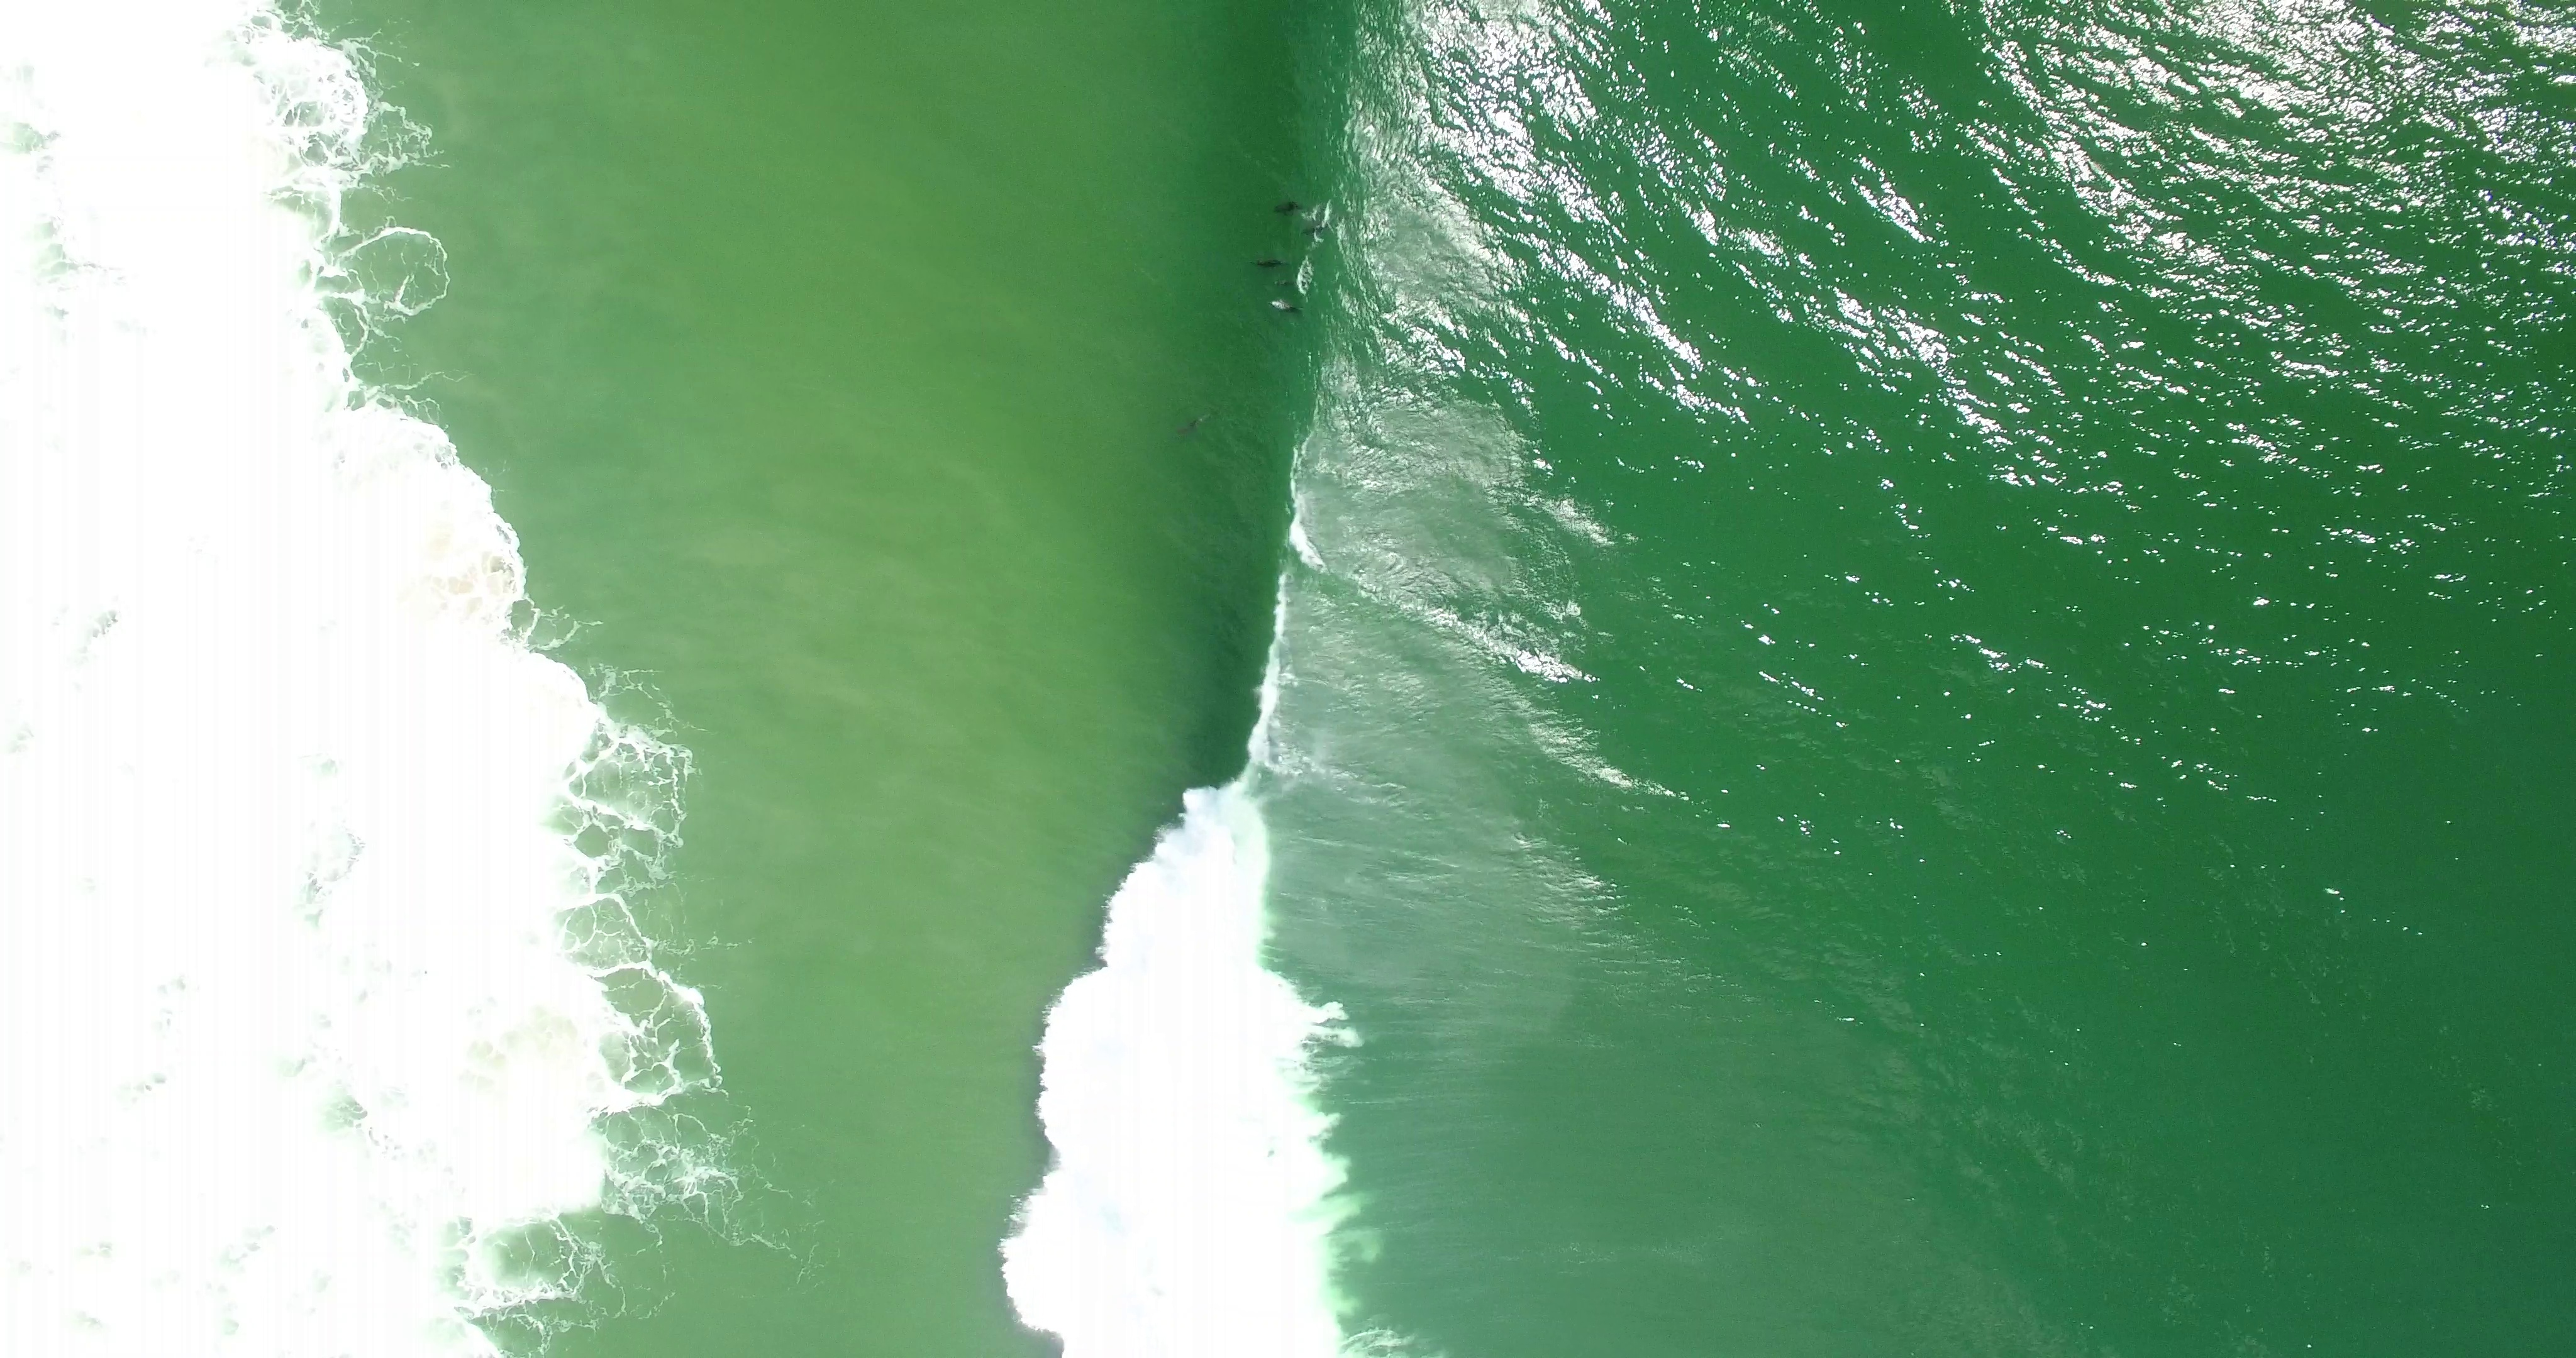dolphin: (1177, 404, 1218, 441), (1254, 252, 1302, 274), (1266, 296, 1308, 317), (1271, 196, 1305, 218), (1300, 218, 1334, 239), (1269, 276, 1307, 291)
